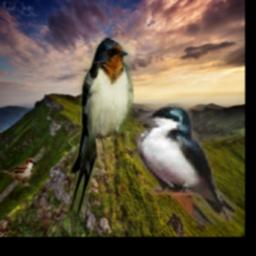Sparrow: (0, 158, 37, 186)
Swallow: (133, 104, 236, 225), (68, 39, 133, 216)
